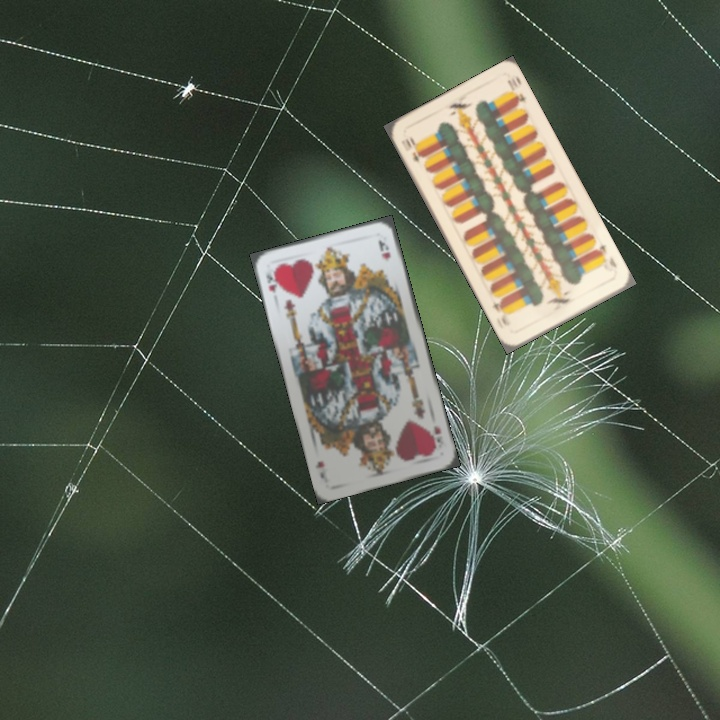E10: (591, 240, 620, 271), (400, 133, 425, 166)
HK: (262, 266, 282, 296), (429, 422, 444, 452)
